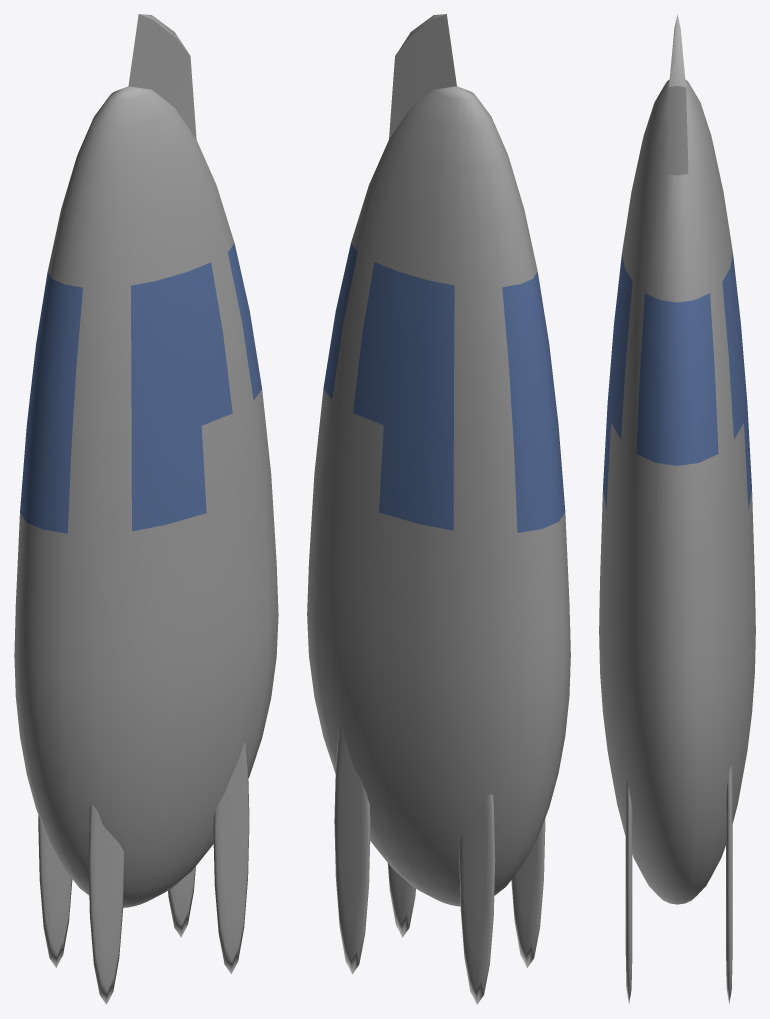
The model's file is Car.fbx.
3 views of the same model, side by side, from view 1: azimuth 30°, elevation 25°; view 2: azimuth 150°, elevation 25°; view 3: azimuth 270°, elevation 25° (orthographic).
Visible parts, largest first — view 1: Car1Collide; view 2: Car1Collide; view 3: Car1Collide.
Boxes of the visible parts, x1,y1,x2,y2 form: Car1Collide: (14, 14, 278, 1004); Car1Collide: (307, 14, 570, 1004); Car1Collide: (599, 14, 755, 1004).
Bounding box in the file's own units: 319 × 1159 × 172.
